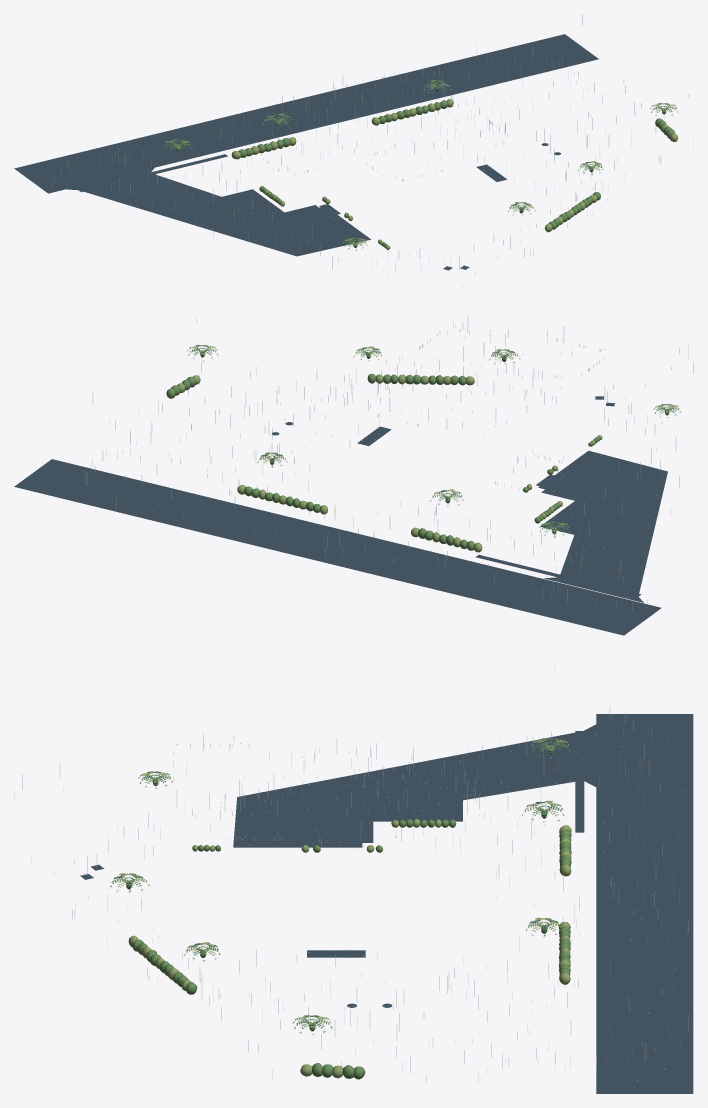
File: rain.glb
3 renders of one model, top to bottom at view 1: azimuth 30°, elevation 25°; view 2: azimuth 150°, elevation 25°; view 3: azimuth 270°, elevation 25°, orthographic. The views are drawn at different scales.
Visible parts, largest first — view 1: lab-weather-wet, lab-weather-plant-12, lab-weather-plant-11, lab-weather-plant-14; view 2: lab-weather-wet, lab-weather-plant-14, lab-weather-plant-12, lab-weather-plant-11, lab-weather-rain-05, lab-weather-rain-11, lab-weather-rain-02, lab-weather-rain-08; view 3: lab-weather-wet, lab-weather-plant-14, lab-weather-plant-13, lab-weather-plant-12, lab-weather-rain-11.
Part boxes in pixels (<box>): lab-weather-wet: <box>14,34,598,270</box>; lab-weather-plant-12: <box>371,99,453,125</box>; lab-weather-plant-11: <box>231,137,296,159</box>; lab-weather-plant-14: <box>544,192,600,232</box>; lab-weather-wet: <box>14,396,667,635</box>; lab-weather-plant-14: <box>367,373,474,385</box>; lab-weather-plant-12: <box>237,485,327,514</box>; lab-weather-plant-11: <box>411,527,482,552</box>; lab-weather-rain-05: <box>102,329,688,598</box>; lab-weather-rain-11: <box>86,326,693,584</box>; lab-weather-rain-02: <box>86,333,662,598</box>; lab-weather-rain-08: <box>92,317,631,602</box>; lab-weather-wet: <box>80,714,693,1093</box>; lab-weather-plant-14: <box>128,935,197,994</box>; lab-weather-plant-13: <box>300,1063,365,1079</box>; lab-weather-plant-12: <box>559,921,570,984</box>; lab-weather-rain-11: <box>59,732,688,1067</box>.
Size of the model in its own units: 51 by 8.76 by 38.57.
